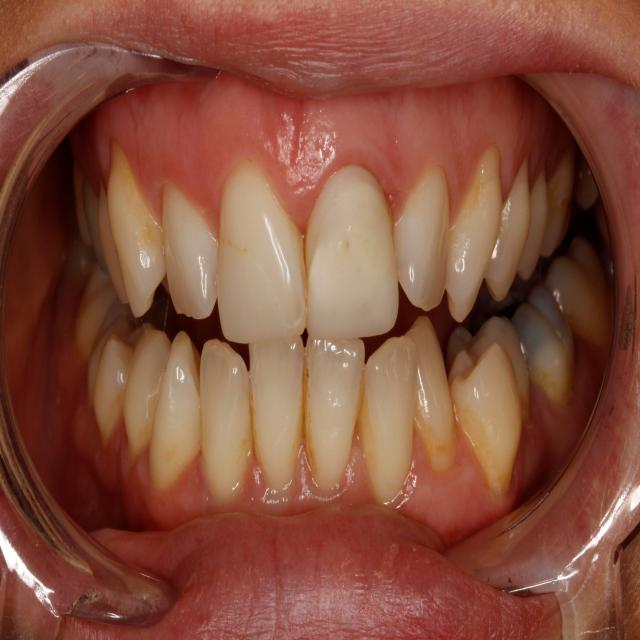tooth: (306, 190, 402, 341), (222, 192, 304, 332), (153, 175, 221, 314), (104, 164, 161, 315), (457, 369, 536, 465), (254, 348, 304, 490), (205, 352, 252, 500), (407, 338, 459, 470), (401, 176, 454, 304), (368, 358, 416, 496), (311, 343, 352, 492), (464, 160, 504, 308), (169, 360, 198, 469), (499, 189, 527, 285), (107, 354, 135, 417), (131, 361, 156, 428), (534, 200, 546, 286)
